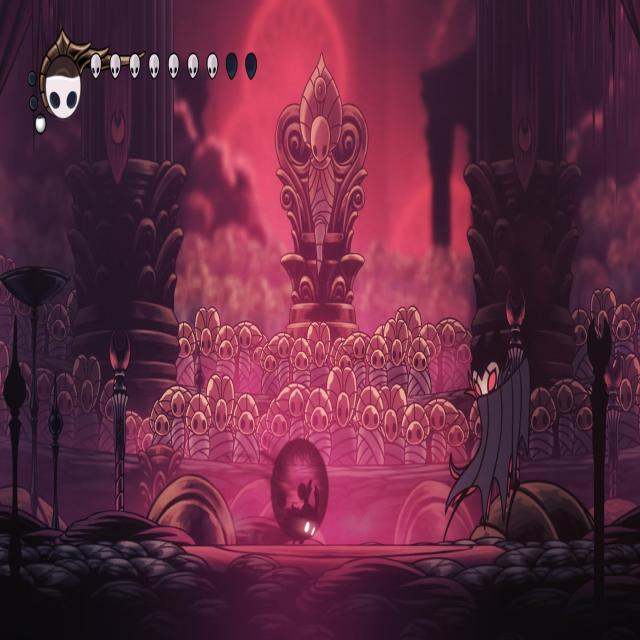Dash Uppercut: (442, 317, 538, 544)
Player: (284, 471, 322, 546)
